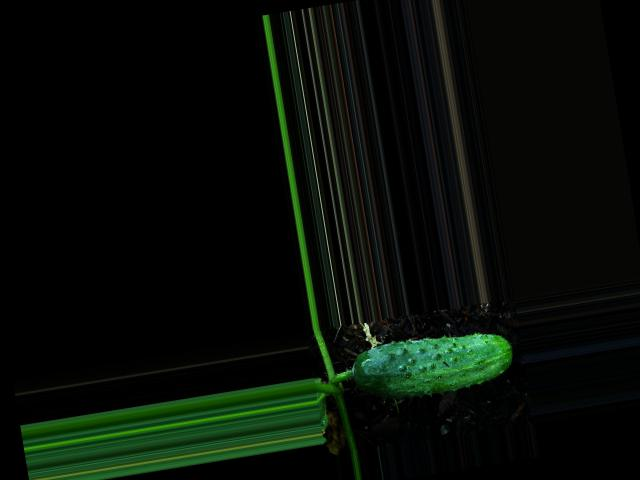cucumber: (349, 323, 518, 407)
